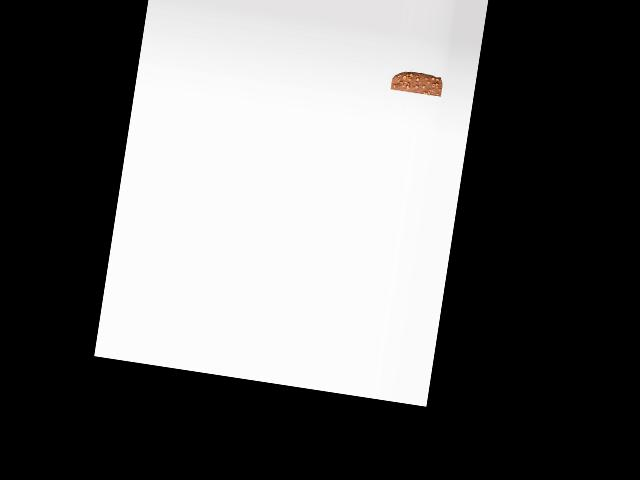chocolate: (390, 65, 444, 99)
